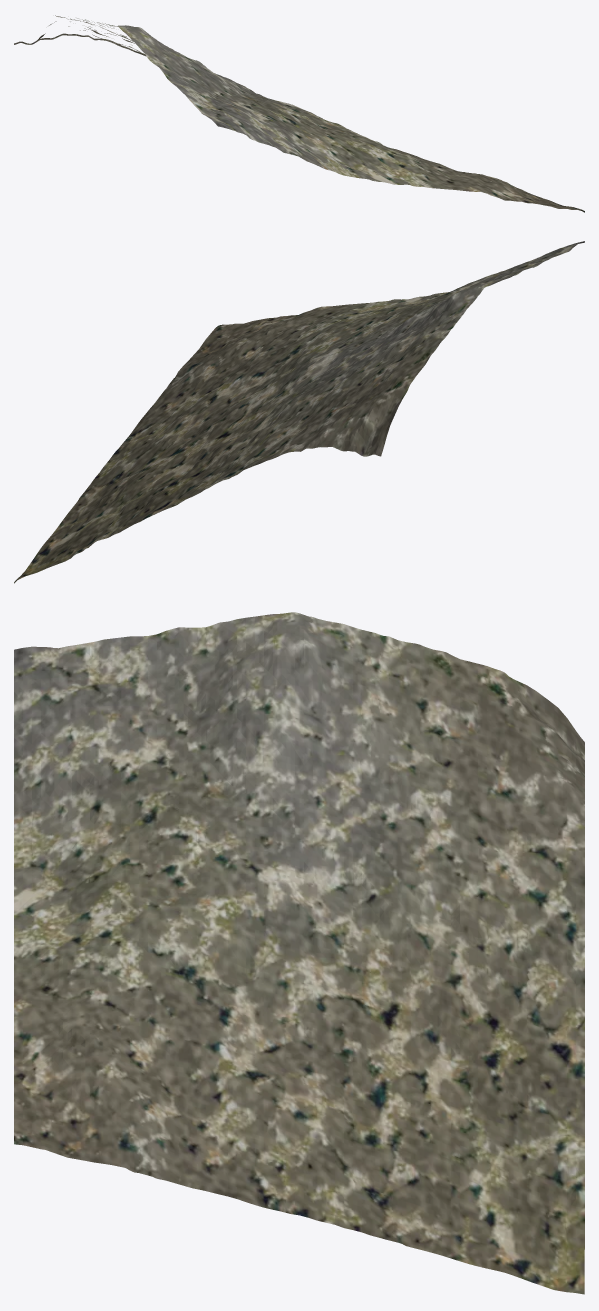
3 renders of one model, top to bottom at view 1: azimuth 30°, elevation 25°; view 2: azimuth 150°, elevation 25°; view 3: azimuth 270°, elevation 25°, orthographic. The views are drawn at different scales.
Size of the model in its own units: 250 by 202 by 241.
Materials: 1 (1 with a texture image).
